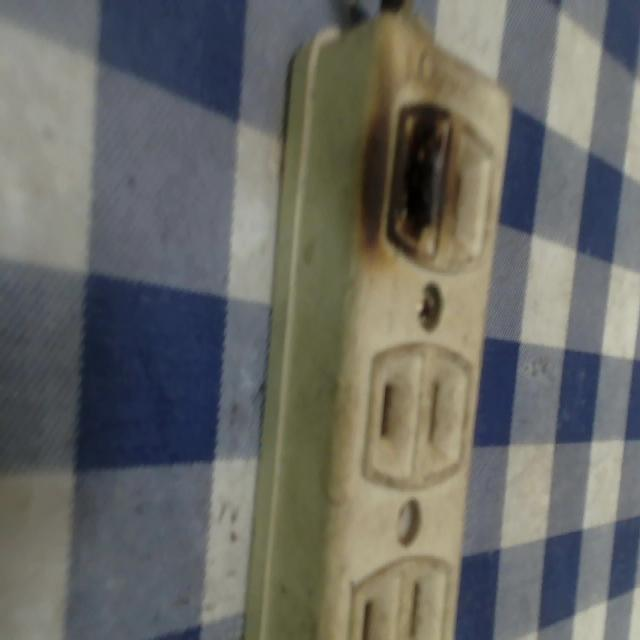-: (382, 88, 454, 269)
